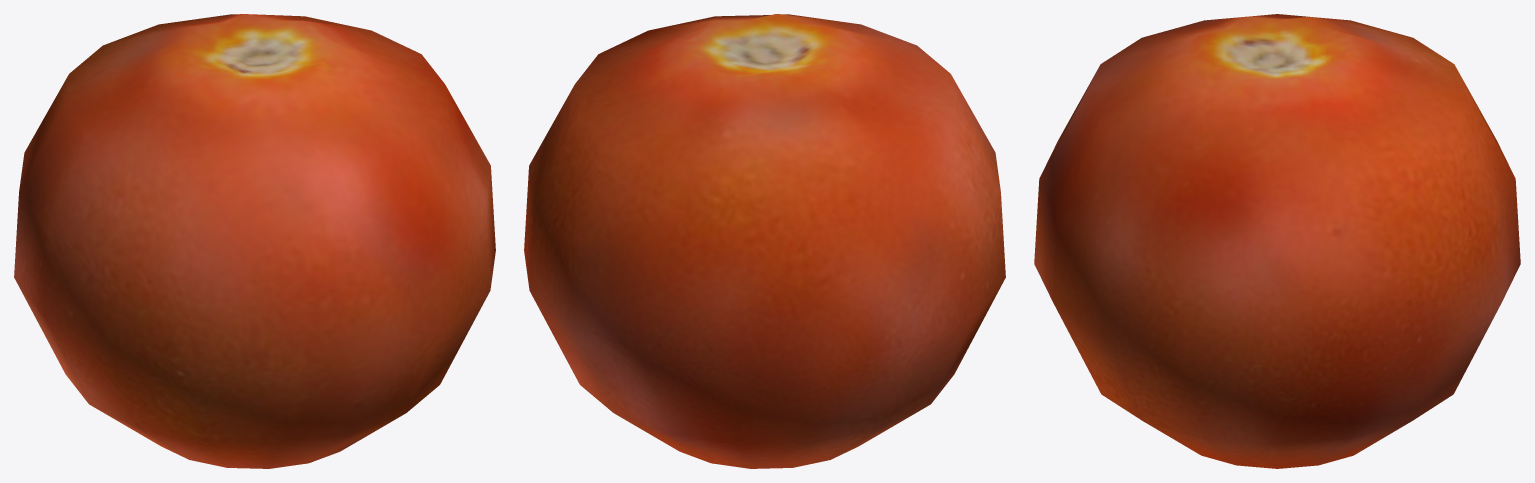
File: TomatoOnion_tomato.fbx
The picture shows the model from 3 angles, left to right: view 1: azimuth 30°, elevation 25°; view 2: azimuth 150°, elevation 25°; view 3: azimuth 270°, elevation 25°; orthographic projection.
Visible parts, largest first — view 1: Tomato; view 2: Tomato; view 3: Tomato.
Part boxes in pixels (x1,y1,x2,y2): Tomato: [14, 14, 495, 468]; Tomato: [524, 14, 1005, 468]; Tomato: [1034, 14, 1520, 468].
Bounding box in the file's own units: 0.1242 × 0.1071 × 0.1242.
